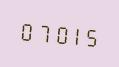five: (82, 22, 97, 50)
one: (66, 20, 81, 48)
seven: (34, 17, 49, 46)
zero: (18, 16, 33, 44), (50, 19, 65, 47)
